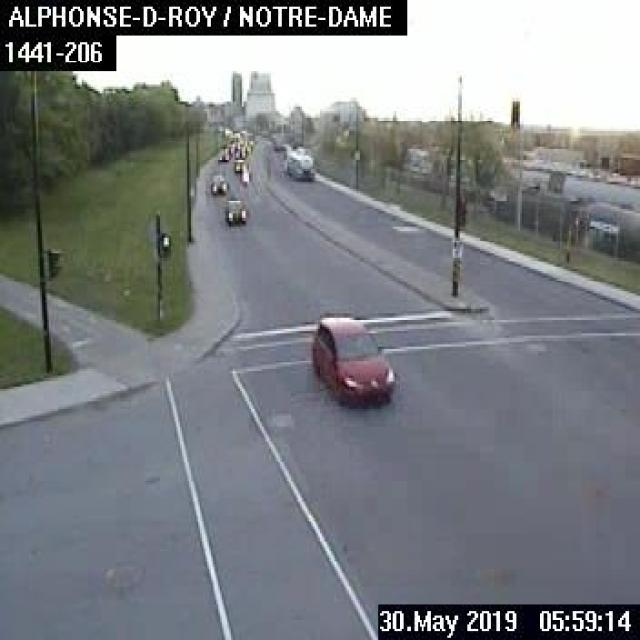vehicle: (309, 314, 393, 402), (285, 151, 313, 178), (222, 198, 245, 222), (209, 173, 226, 191), (215, 149, 230, 162), (232, 158, 244, 171)
